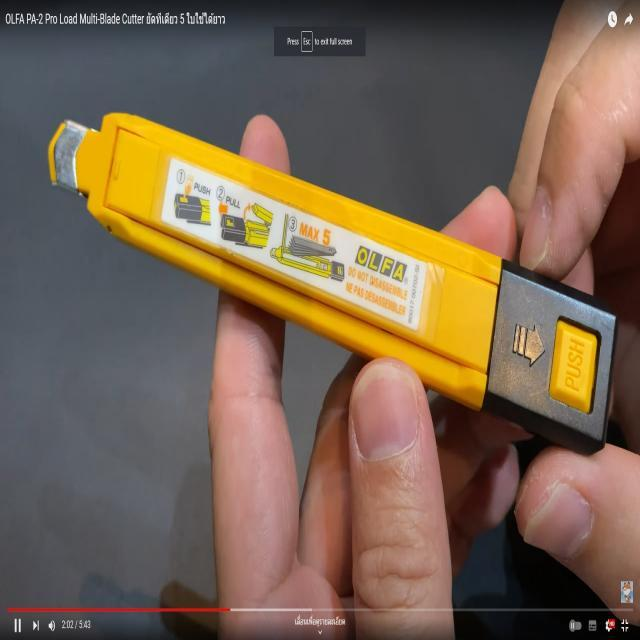cutter: (15, 87, 640, 506)
